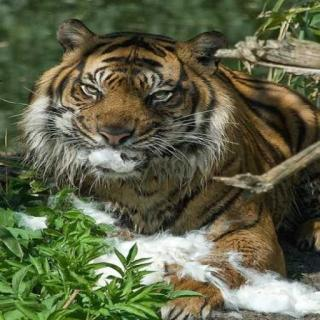Tiger: (28, 13, 315, 303)
